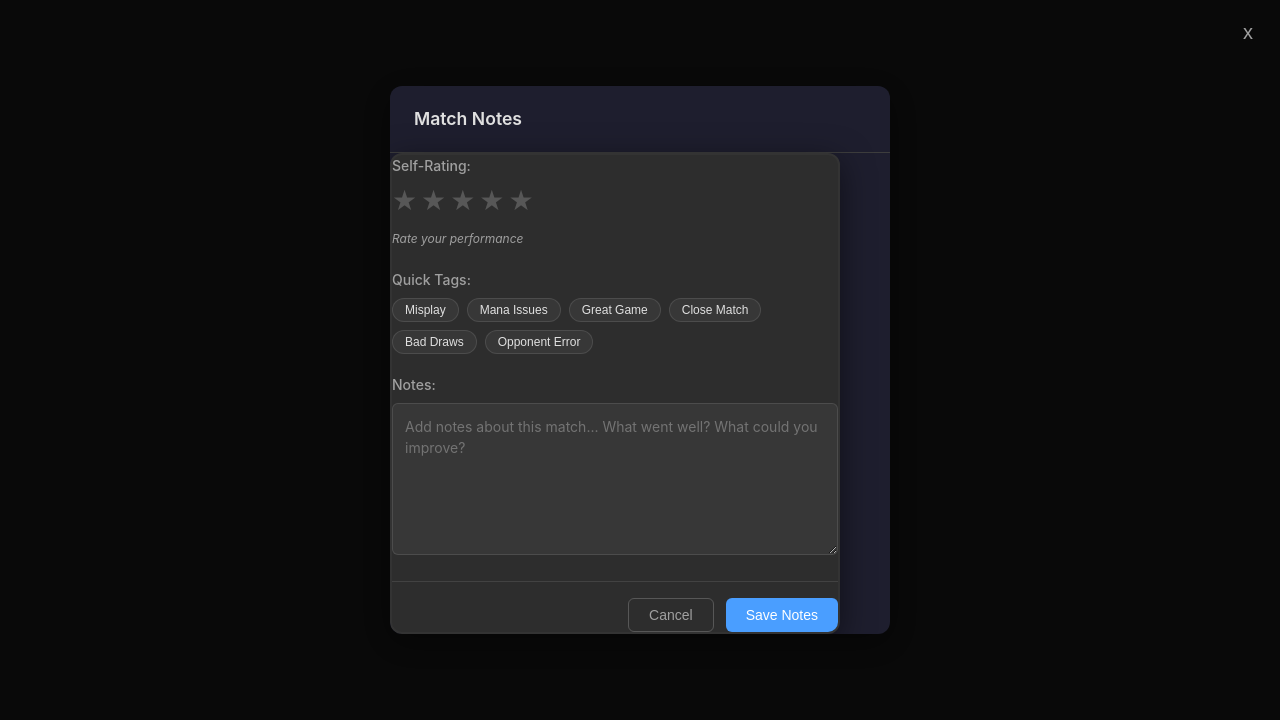
Test: MatchNotesModal › Rating Interaction › should update rating when star clicked
The width and height of the screenshot is (1280, 720).
Expected: the text "Rate your performance" is shown, [392,231,524,246]
Note: Click 3rd star using title
What coordinates should you click on to do the following:
click the 3rd button titled "3 stars"
I would click on:
 (463, 201)
Its box is [450,184,475,217].
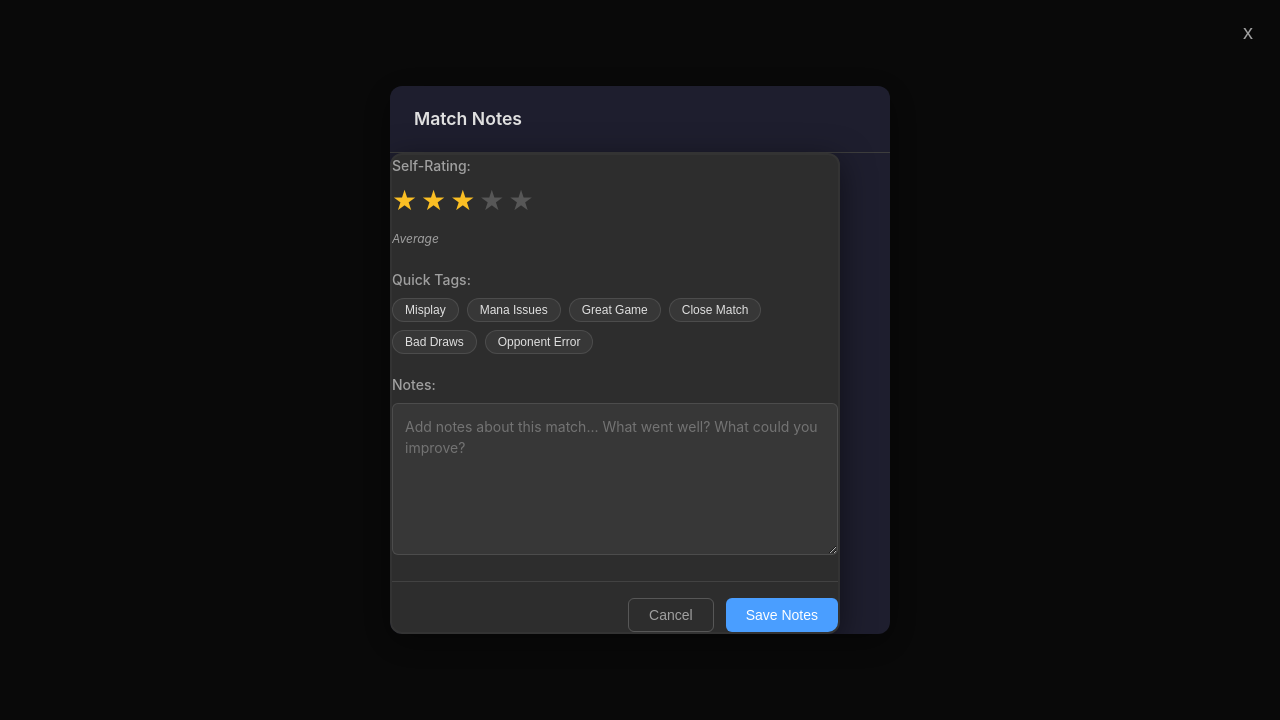
Now the text "Average" is shown, box [392,231,439,246]
